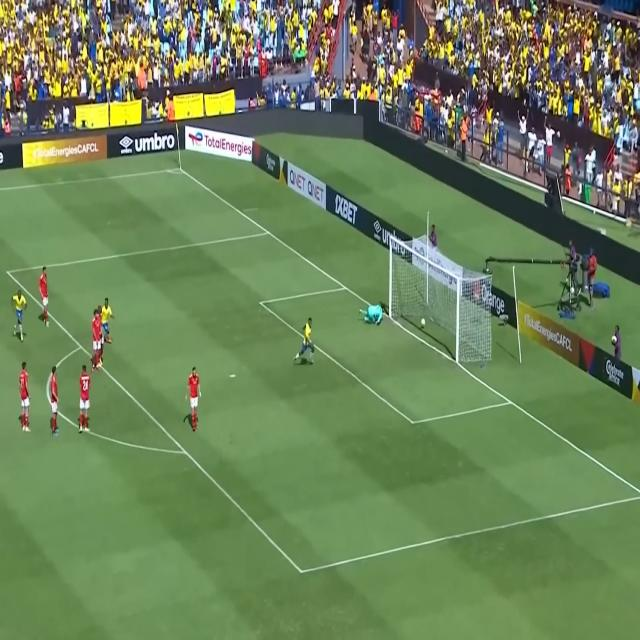Ball: (418, 313, 431, 327)
Keeper: (361, 296, 388, 330)
Player: (182, 360, 205, 432), (292, 314, 319, 368), (18, 354, 32, 436), (49, 363, 64, 435), (38, 265, 54, 332), (78, 360, 92, 432), (14, 288, 29, 338), (102, 294, 115, 344), (92, 310, 100, 371), (97, 304, 104, 366)
